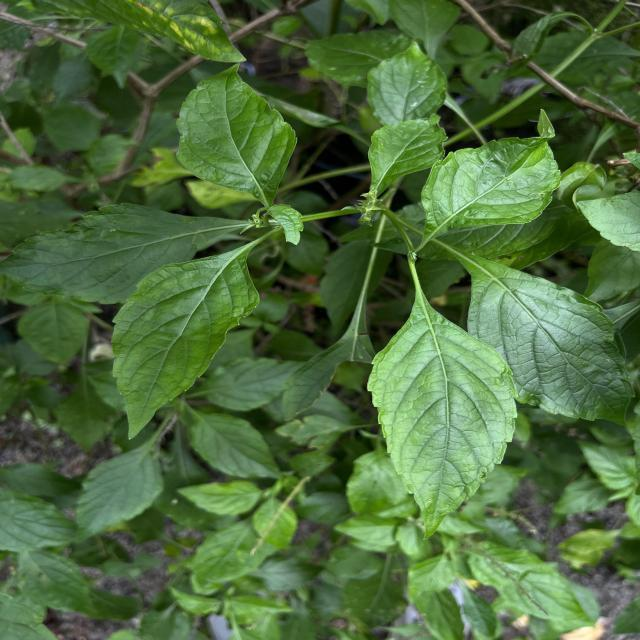Ocimum gratissimum: (365, 276, 521, 542), (108, 227, 264, 443), (461, 248, 639, 430), (0, 199, 249, 307), (419, 107, 565, 254), (172, 56, 302, 204), (362, 106, 452, 191)
